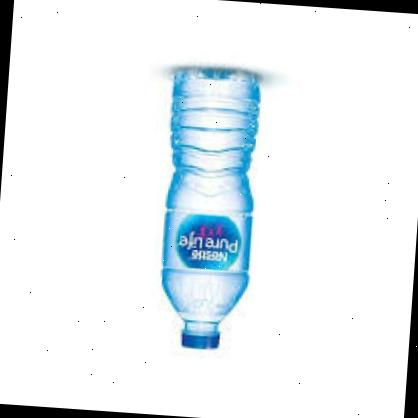bottle: (147, 60, 269, 362)
cap: (176, 325, 228, 357)
label: (154, 202, 262, 284)
